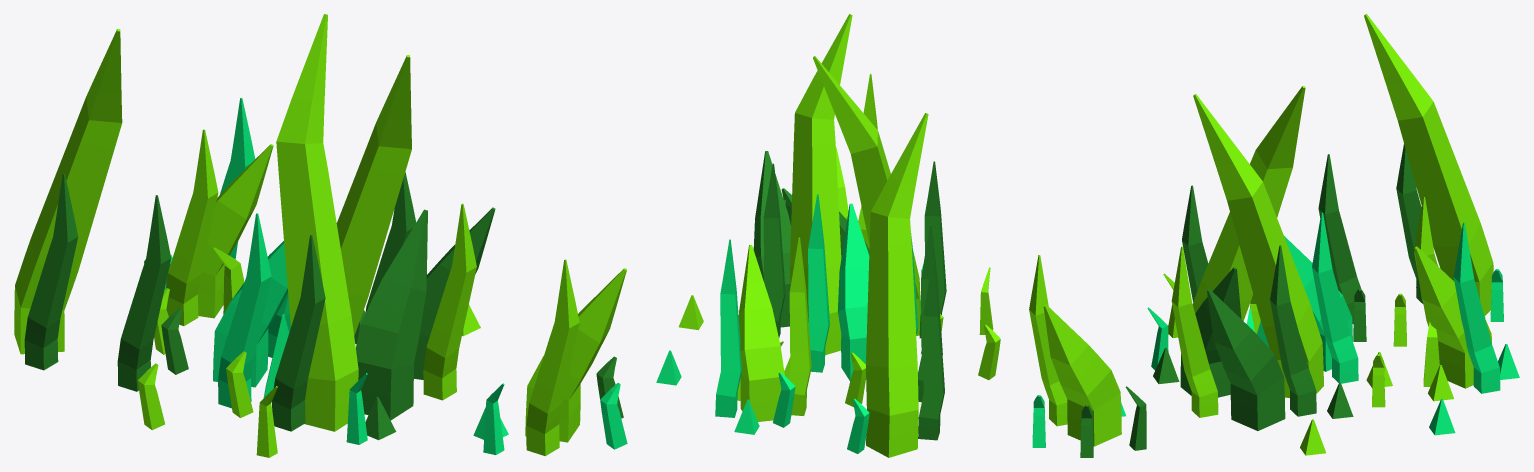
The model's file is GrassGroupV1.fbx.
3 views of the same model, side by side, from view 1: azimuth 30°, elevation 25°; view 2: azimuth 150°, elevation 25°; view 3: azimuth 270°, elevation 25° (orthographic). The views are drawn at different scales.
Visible parts, largest first — view 1: Cube, Cube.027, Cube.009, Cube.001, Cube.013, Cube.038, Cube.028, Cube.002, Cube.019, Cube.021, Cube.020, Cube.037 (+16 smaller); view 2: Cube.027, Cube.009, Cube.020, Cube, Cube.011, Cube.028, Cube.022, Cube.012, Cube.021, Cube.014, Cube.010, Cube.002 (+11 smaller); view 3: Cube.027, Cube.009, Cube.010, Cube.037, Cube, Cube.020, Cube.013, Cube.014, Cube.022, Cube.012, Cube.019, Cube.038 (+19 smaller).
Part boxes in pixels (x1=…): Cube: x1=276, y1=14, x2=358, y2=431; Cube.027: x1=14, y1=29, x2=122, y2=354; Cube.009: x1=336, y1=55, x2=411, y2=335; Cube.001: x1=356, y1=209, x2=427, y2=420; Cube.013: x1=423, y1=203, x2=476, y2=400; Cube.038: x1=526, y1=259, x2=579, y2=456; Cube.028: x1=24, y1=173, x2=78, y2=370; Cube.002: x1=272, y1=235, x2=325, y2=431; Cube.019: x1=117, y1=195, x2=171, y2=391; Cube.021: x1=165, y1=129, x2=218, y2=325; Cube.020: x1=198, y1=144, x2=273, y2=318; Cube.037: x1=525, y1=268, x2=626, y2=442; Cube.027: x1=866, y1=113, x2=928, y2=457; Cube.009: x1=790, y1=14, x2=852, y2=354; Cube.020: x1=738, y1=245, x2=784, y2=421; Cube: x1=813, y1=56, x2=920, y2=335; Cube.011: x1=837, y1=203, x2=869, y2=381; Cube.028: x1=918, y1=262, x2=944, y2=440; Cube.022: x1=715, y1=239, x2=741, y2=417; Cube.012: x1=808, y1=194, x2=829, y2=372; Cube.021: x1=788, y1=237, x2=811, y2=415; Cube.014: x1=763, y1=163, x2=785, y2=337; Cube.010: x1=753, y1=151, x2=790, y2=327; Cube.002: x1=919, y1=161, x2=946, y2=338; Cube.027: x1=1364, y1=14, x2=1493, y2=315; Cube.009: x1=1193, y1=94, x2=1323, y2=397; Cube.010: x1=1207, y1=289, x2=1285, y2=430; Cube.037: x1=1043, y1=304, x2=1121, y2=446; Cube: x1=1192, y1=86, x2=1305, y2=320; Cube.020: x1=1414, y1=246, x2=1491, y2=388; Cube.013: x1=1171, y1=246, x2=1218, y2=417; Cube.014: x1=1270, y1=245, x2=1316, y2=416; Cube.022: x1=1453, y1=222, x2=1500, y2=393; Cube.012: x1=1312, y1=212, x2=1358, y2=383; Cube.019: x1=1318, y1=154, x2=1361, y2=324; Cube.038: x1=1029, y1=255, x2=1067, y2=426.
Size of the model in its own units: 50.14 by 43.66 by 62.71.
